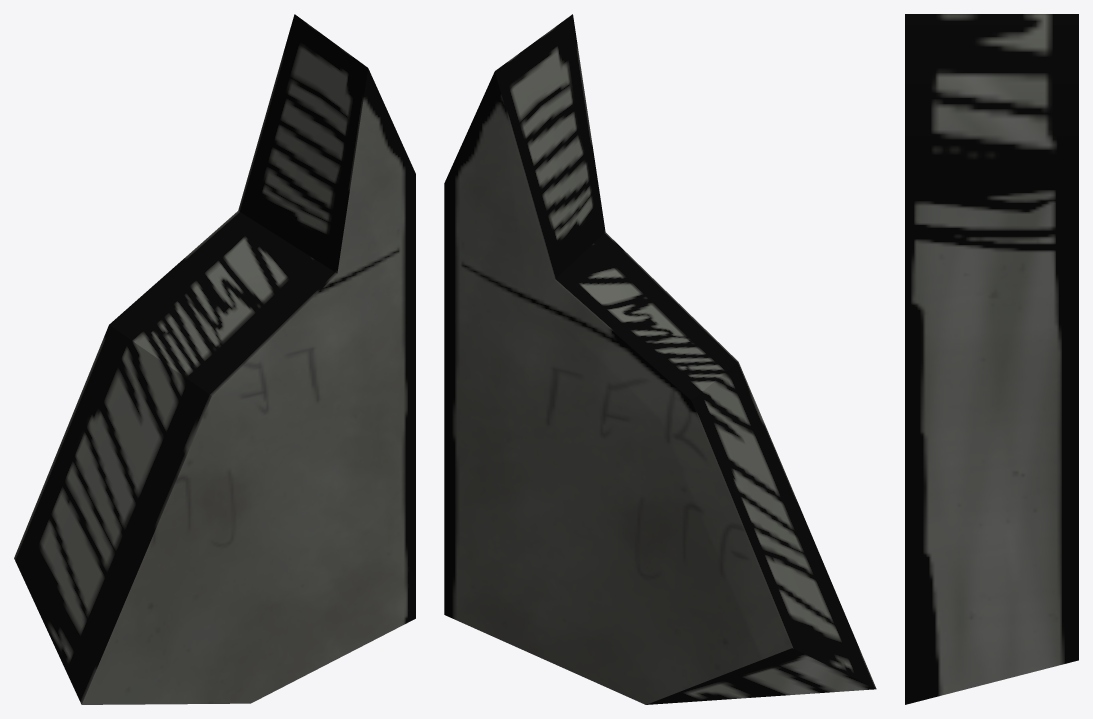
File: tombstone5_gib2.fbx
3 views of the same model, side by side, from view 1: azimuth 30°, elevation 25°; view 2: azimuth 150°, elevation 25°; view 3: azimuth 270°, elevation 25° (orthographic). The views are drawn at different scales.
Parts seen in each view (by area): view 1: tombstone5_gib2; view 2: tombstone5_gib2; view 3: tombstone5_gib2.
Part boxes in pixels (left/top/right/bottom): tombstone5_gib2: left=14, top=14, right=415, bottom=704; tombstone5_gib2: left=444, top=14, right=876, bottom=704; tombstone5_gib2: left=905, top=14, right=1078, bottom=704.
Size of the model in its own units: 99.89 by 173 by 38.13.
